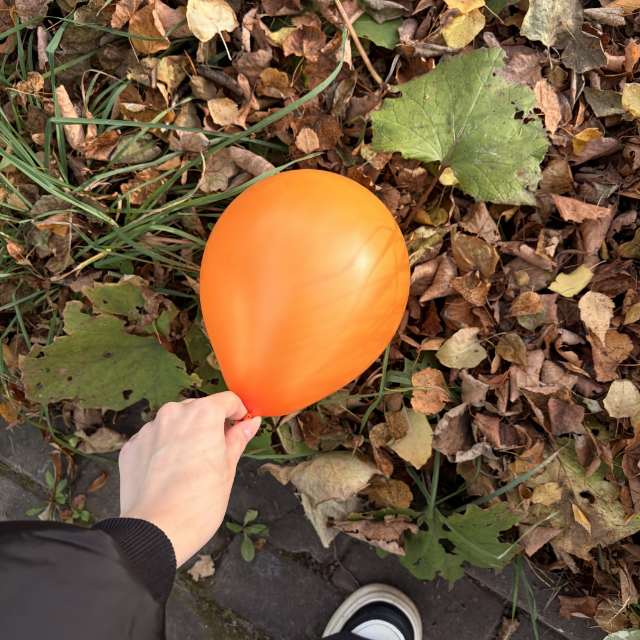balloon: (200, 168, 411, 425)
